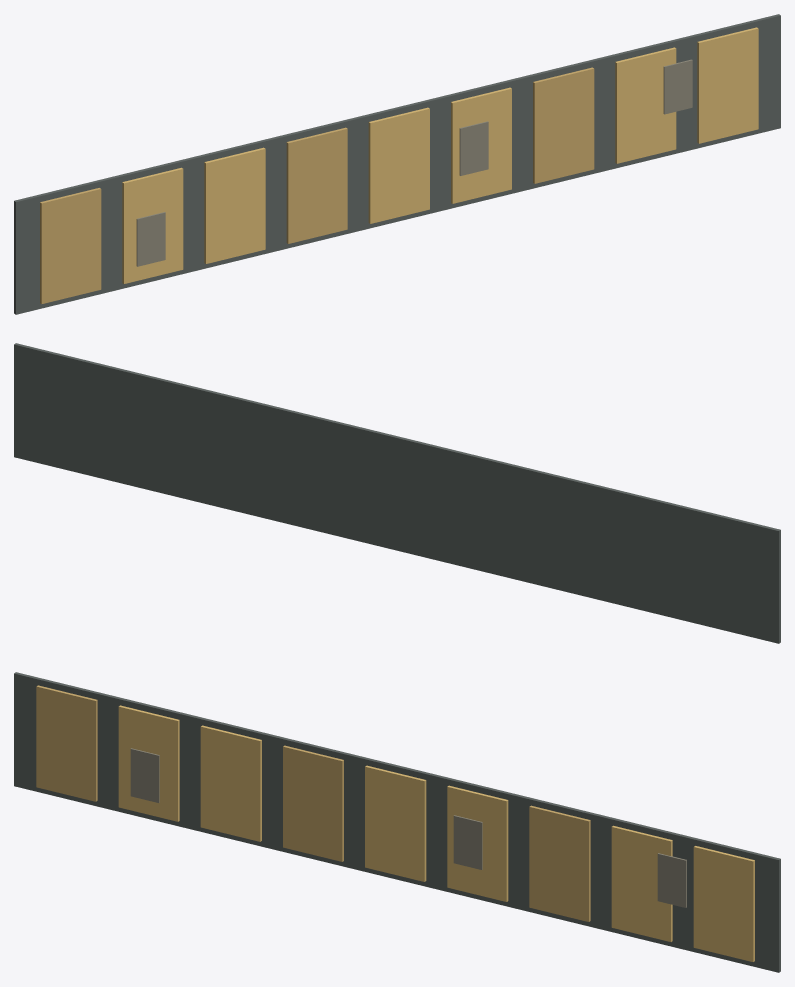
File: warning_strip.glb
The picture shows the model from 3 angles, top to bottom: view 1: azimuth 30°, elevation 25°; view 2: azimuth 150°, elevation 25°; view 3: azimuth 330°, elevation 25°; orthographic projection.
Parts seen in each view (by area): view 1: backing, amber_4, amber_8, amber_0, amber_2, amber_3, amber_6, amber_7, amber_1, amber_5, wear_2, wear_0 (+1 smaller); view 2: backing; view 3: backing, amber_0, amber_4, amber_6, amber_8, amber_2, amber_3, amber_7, amber_1, amber_5, wear_0, wear_2 (+1 smaller).
Boxes of the visible parts, x1,y1,x2,y2 form: backing: [14, 14, 780, 314]; amber_4: [368, 107, 429, 223]; amber_8: [697, 27, 758, 143]; amber_0: [40, 188, 101, 303]; amber_2: [204, 147, 265, 263]; amber_3: [286, 127, 347, 243]; amber_6: [533, 67, 594, 183]; amber_7: [615, 47, 676, 163]; amber_1: [122, 167, 183, 283]; amber_5: [451, 87, 511, 203]; wear_2: [663, 59, 692, 114]; wear_0: [136, 212, 165, 266]; backing: [14, 343, 780, 643]; backing: [14, 672, 780, 972]; amber_0: [36, 685, 97, 801]; amber_4: [365, 765, 426, 881]; amber_6: [529, 805, 590, 921]; amber_8: [693, 846, 754, 961]; amber_2: [200, 725, 261, 841]; amber_3: [283, 745, 343, 861]; amber_7: [611, 825, 672, 941]; amber_1: [118, 705, 179, 821]; amber_5: [447, 785, 508, 901]; wear_0: [130, 748, 159, 802]; wear_2: [657, 853, 686, 907].
Bounding box in the file's own units: 2.7 × 0.38 × 0.027.
